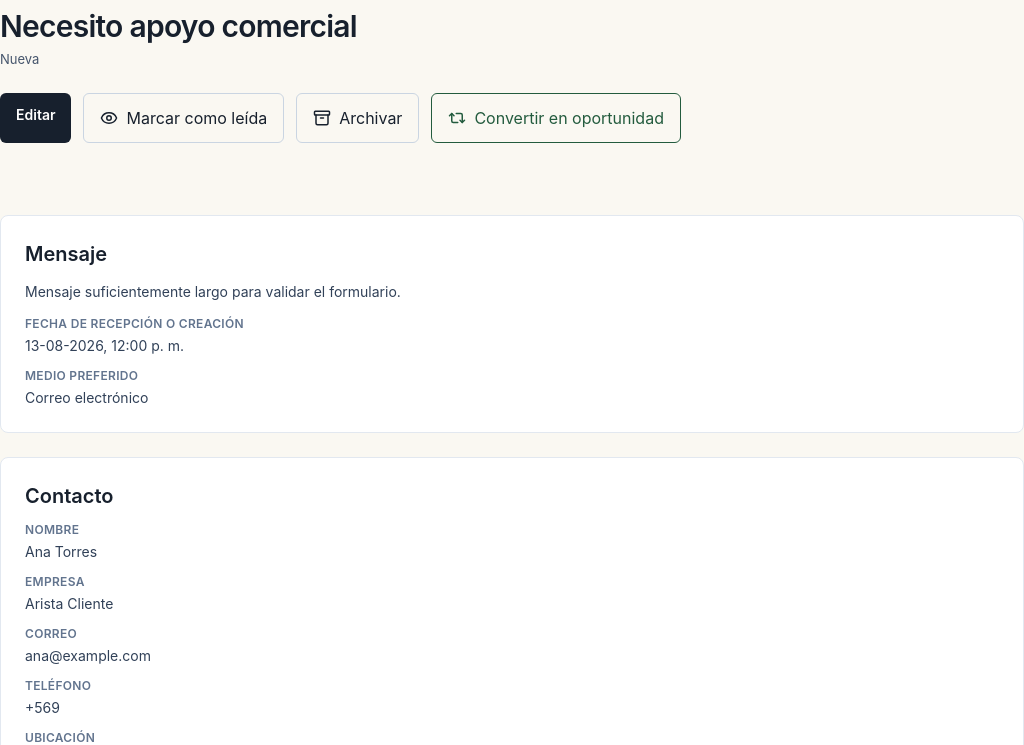
AdminInquiries › loads idempotent already-converted RPC result without partial repair
Click the button "Convertir en oportunidad": coordinates (556, 118) [431,93,681,143]
(page scrolled)
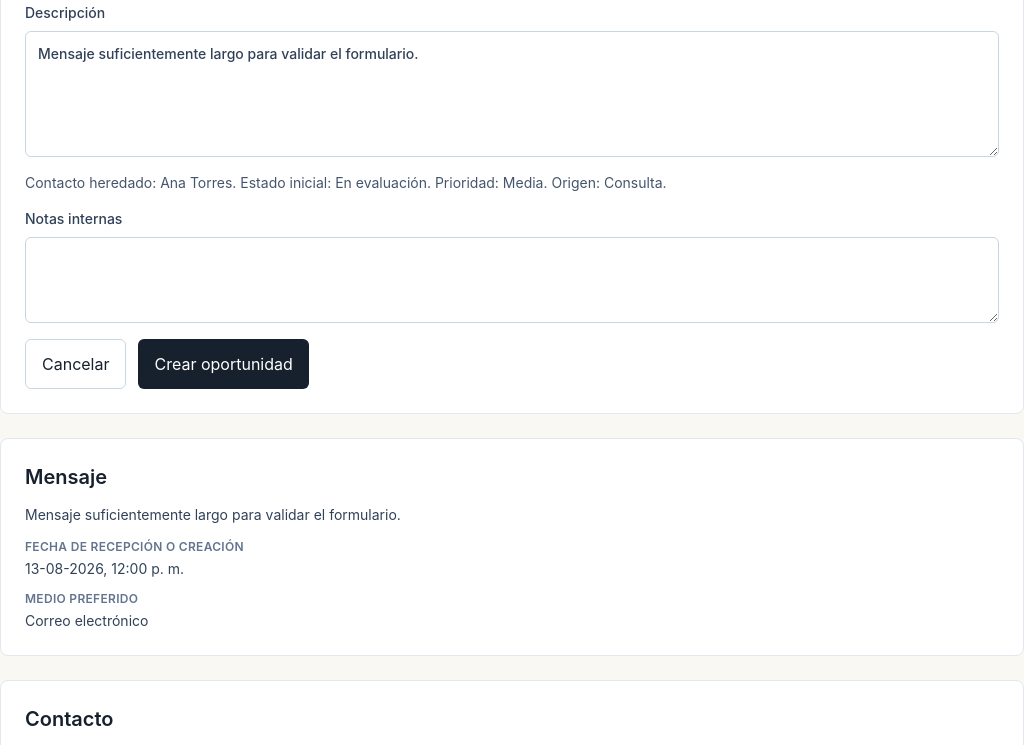
Click the button "Crear oportunidad": coordinates (224, 364) [138,339,309,389]
(page scrolled)
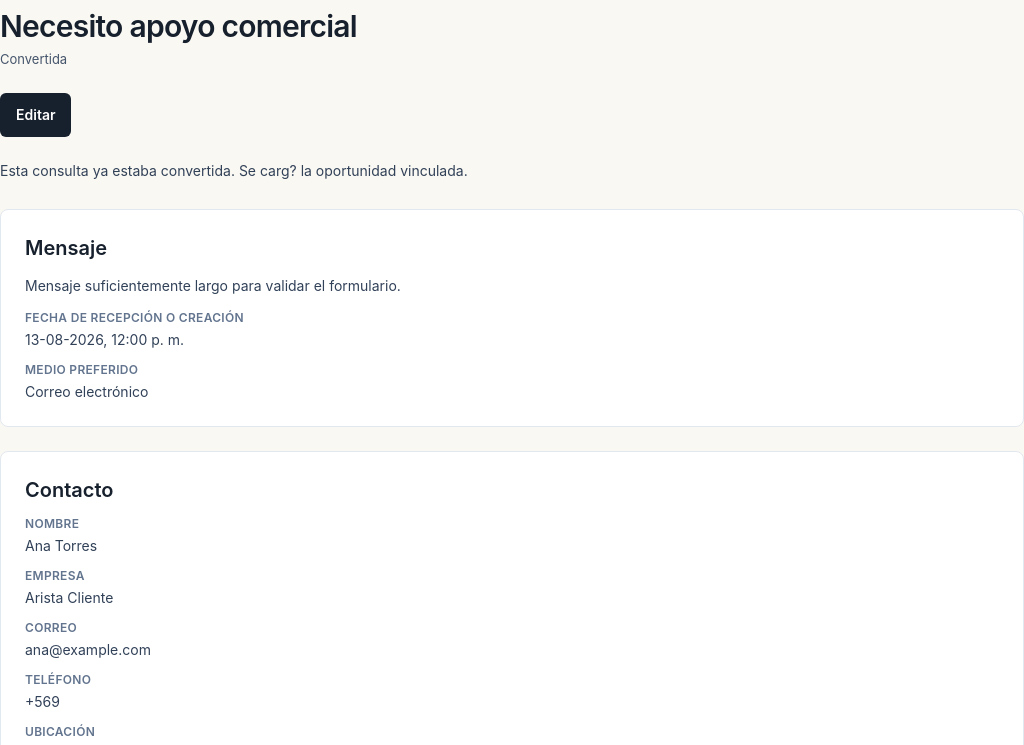
expect the text "ya estaba convertida" is shown: met, box [0,162,468,179]
